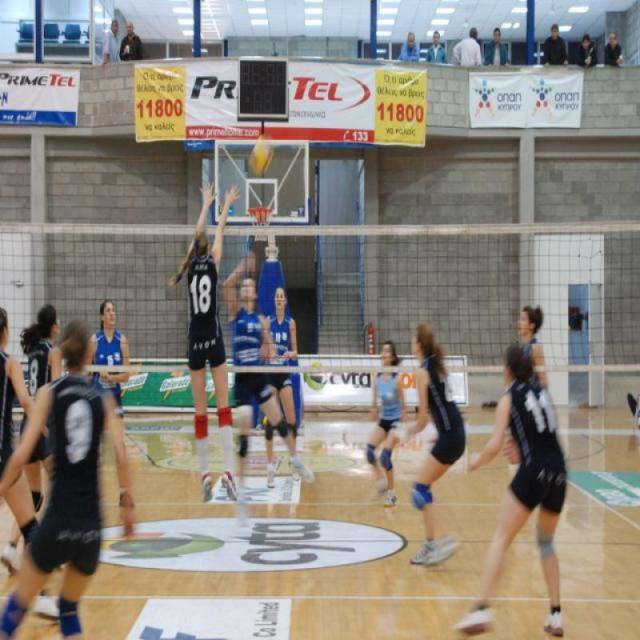volleyball: (248, 132, 273, 177)
